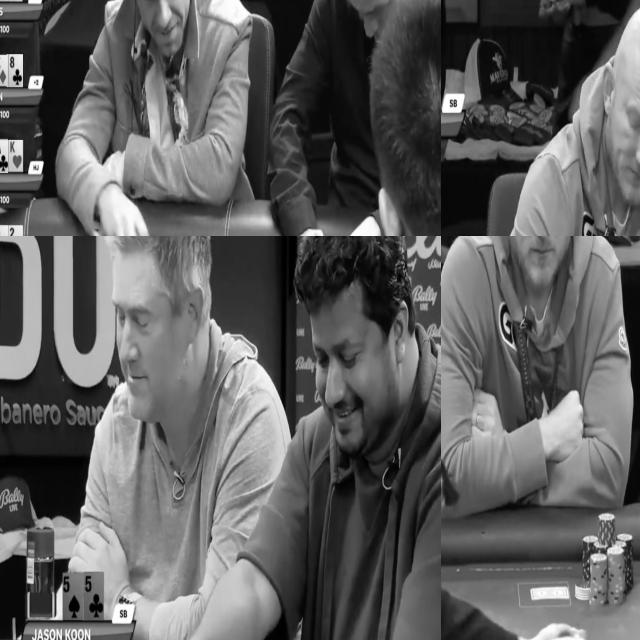2C: (8, 225, 23, 236)
5C: (84, 572, 104, 621)
5D: (0, 225, 8, 236)
5S: (63, 574, 83, 620)
8C: (7, 54, 23, 87)
AC: (0, 139, 8, 173)
KD: (0, 55, 7, 87)
KH: (8, 141, 24, 173)
